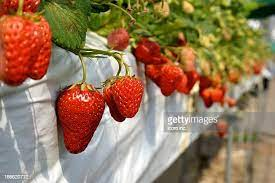ripe: (55, 80, 104, 155), (1, 10, 38, 88), (26, 14, 52, 79), (111, 76, 146, 118), (101, 74, 130, 123), (132, 36, 168, 66), (158, 59, 182, 96), (175, 67, 198, 96), (105, 25, 130, 51), (146, 55, 161, 87), (199, 82, 212, 109), (211, 84, 221, 107)
unripe: (175, 43, 197, 72)
